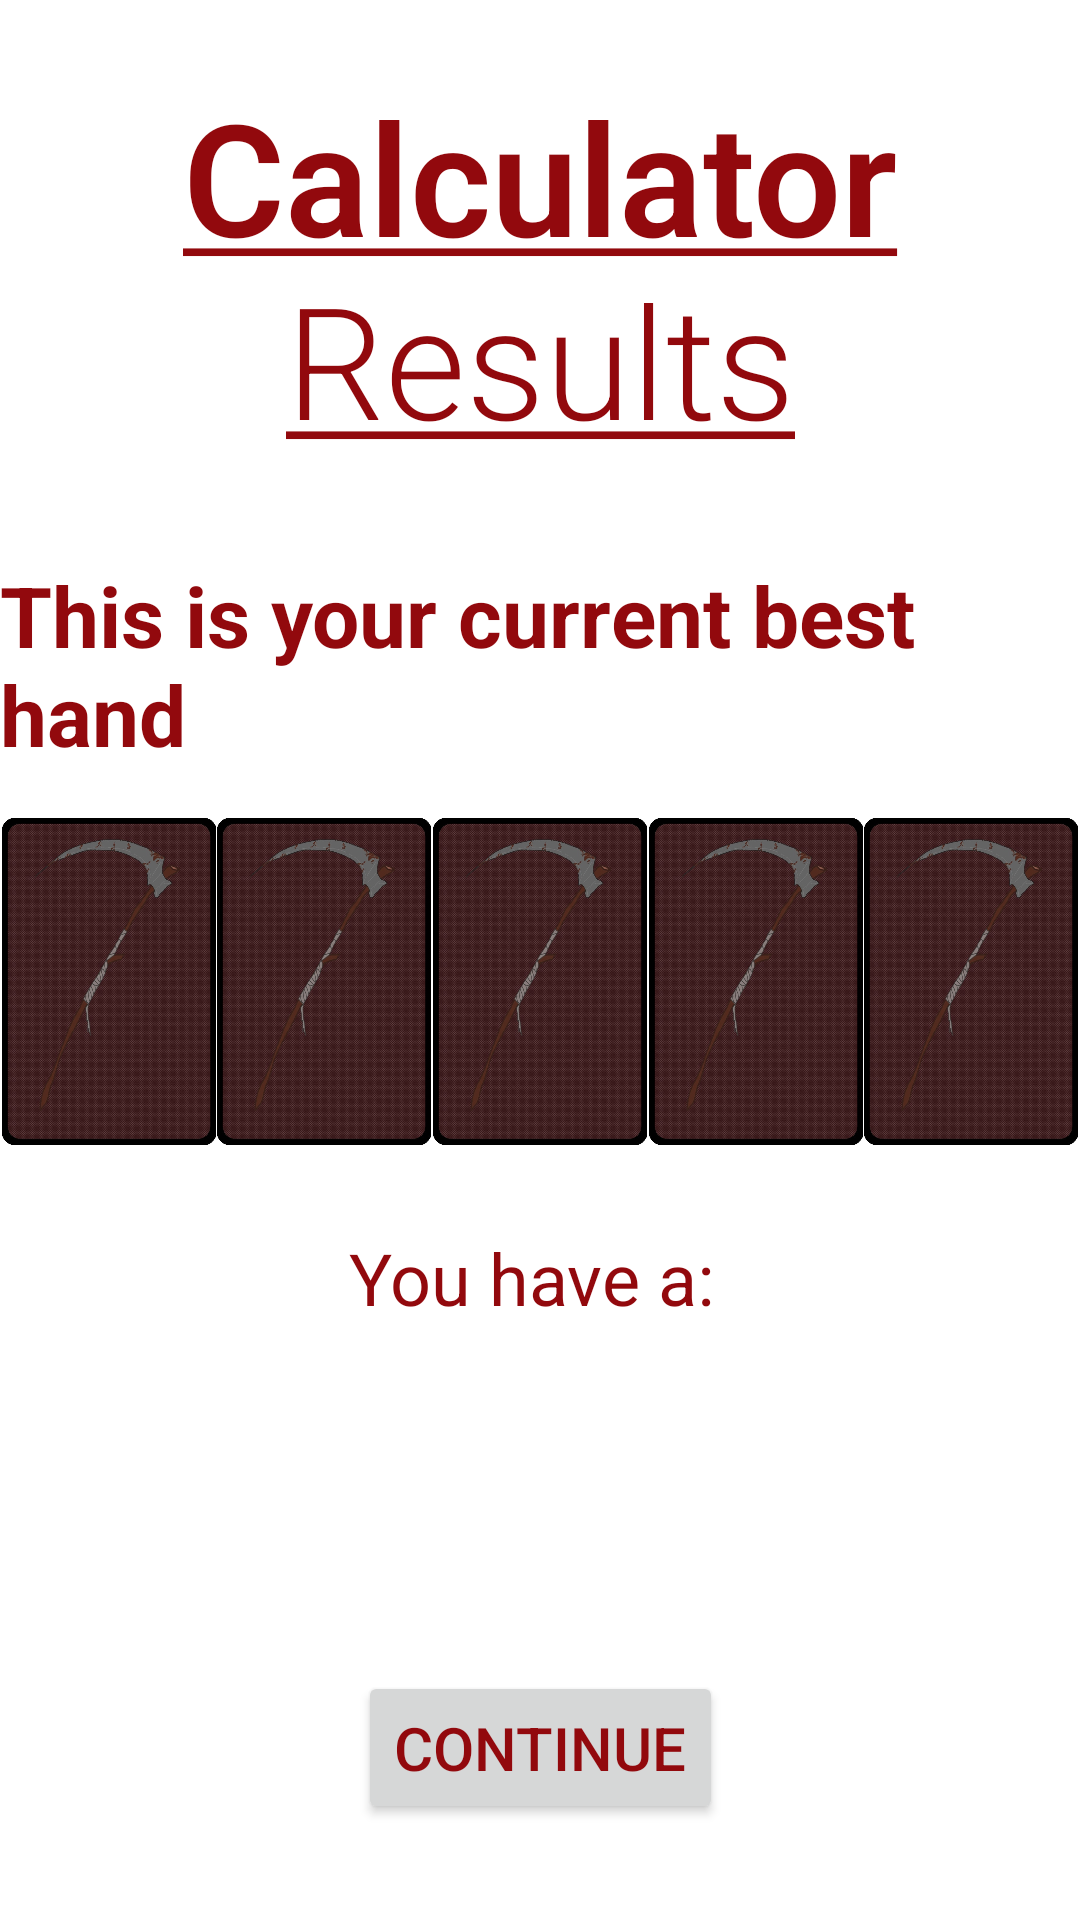

Named icons in this screenshot (1080px×1920px) and their centers, (x=x, y=y):
flipped card: (x=109, y=981), (x=324, y=981), (x=540, y=981), (x=756, y=981), (x=971, y=981)
